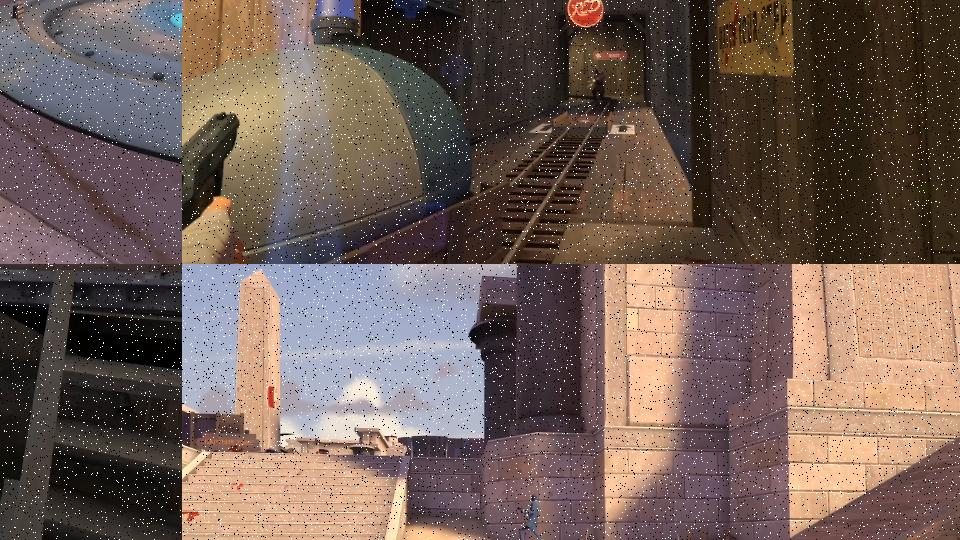Enemy: (517, 493, 547, 540), (590, 69, 605, 100)
